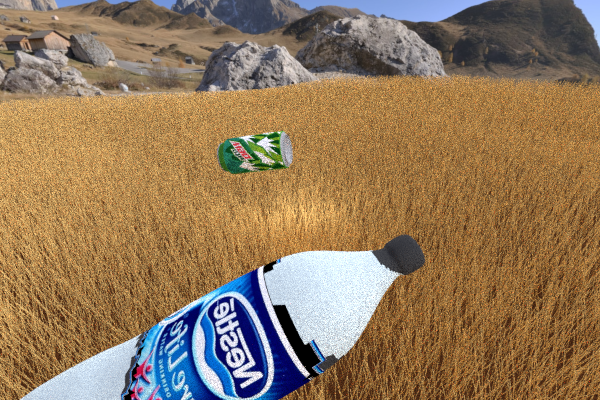bottle: (0, 234, 425, 400)
can: (216, 130, 292, 174), (383, 111, 413, 145)
